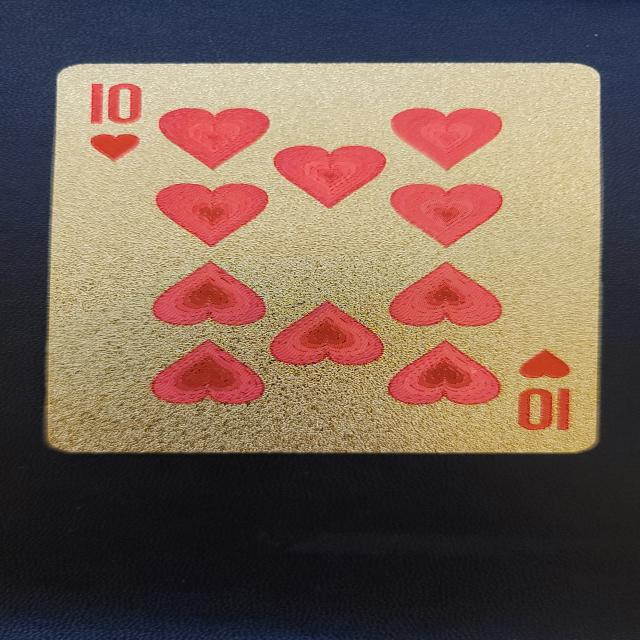10 of hearts: (41, 62, 601, 453)
